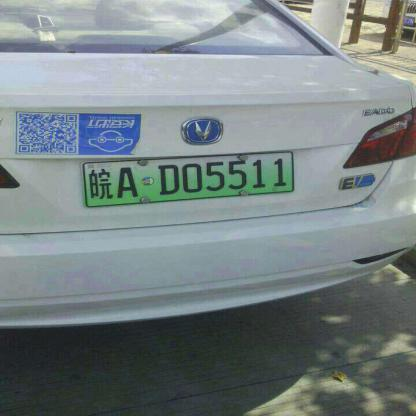lp: (83, 153, 297, 205)
